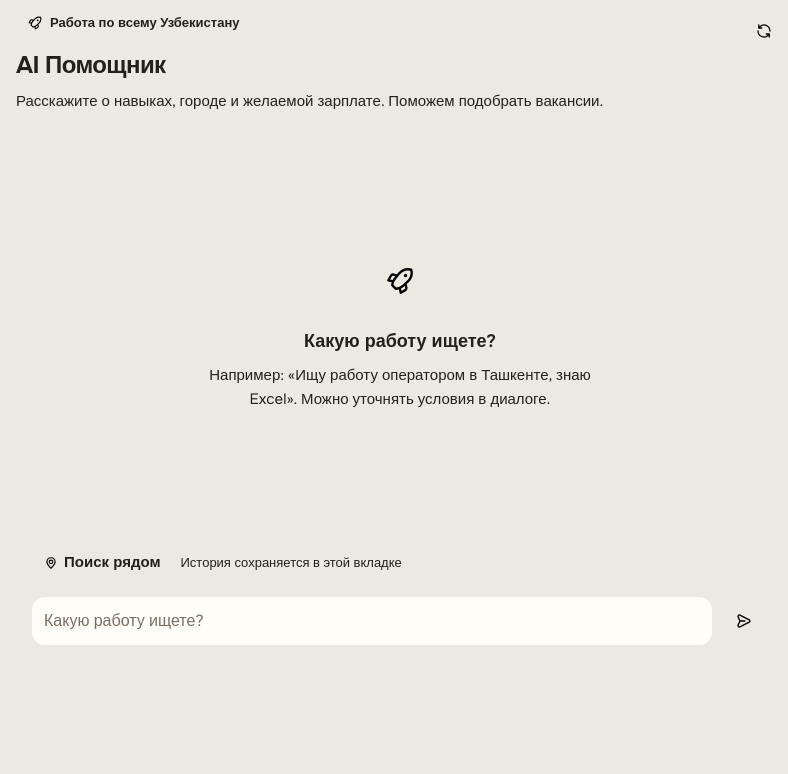
failed HTTP request preserves input, shows retry and never invents an empty search result
The image size is (788, 774).
Type "Ищу работу" into the field.
click(372, 621); type("Ищу работу")  # box top-left (32, 597), bottom-right (712, 645)
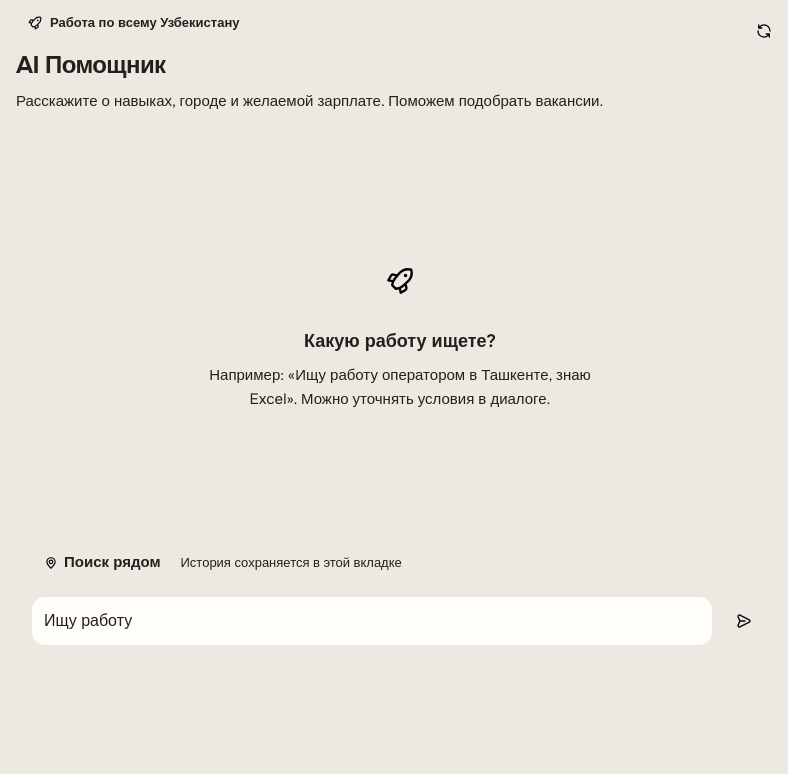
Click the button named "Отправить".
click(744, 621)  # box top-left (720, 597), bottom-right (768, 645)
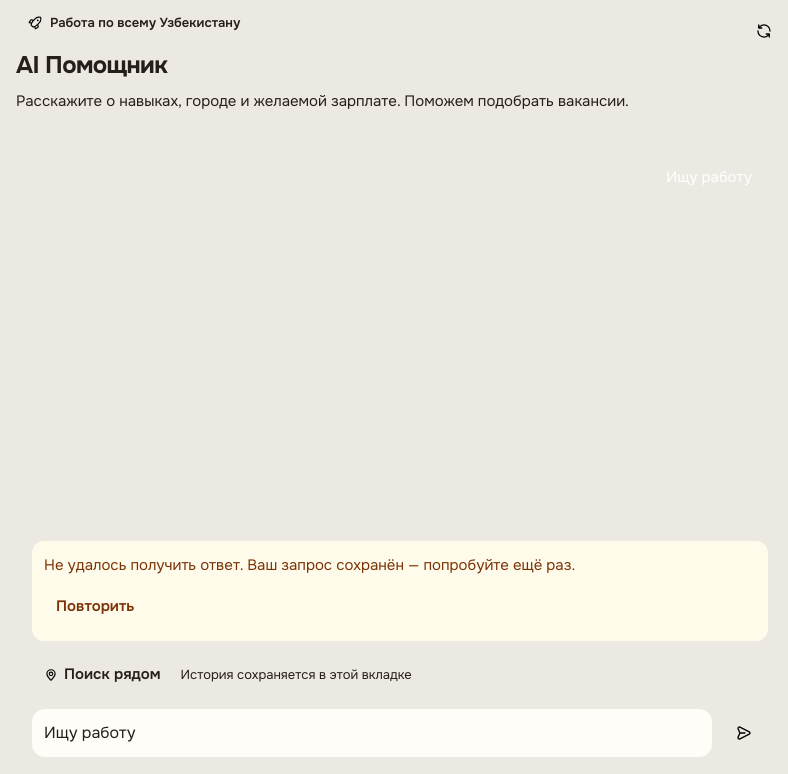
Now the message shows "Ваш запрос сохранён", box top-left (44, 555), bottom-right (575, 575)
Click the button "Повторить".
click(95, 607)  # box top-left (44, 585), bottom-right (146, 629)
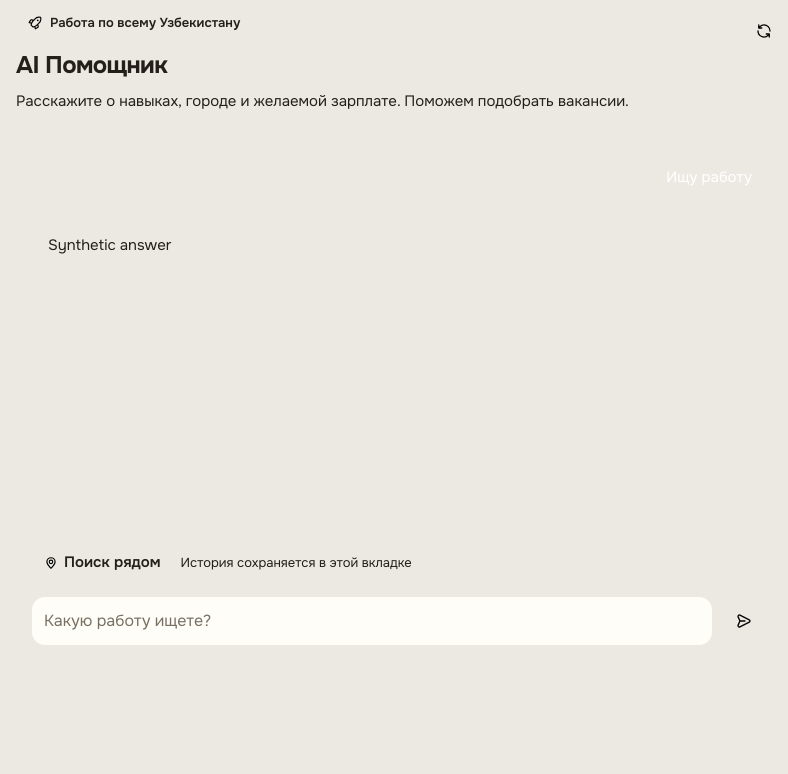
Expected: the text "Ищу работу" is shown once, top-left (666, 165), bottom-right (752, 189)
Now the text "Synthetic answer" is shown, box top-left (48, 235), bottom-right (172, 255)
Now the field is empty, box top-left (32, 597), bottom-right (712, 645)
